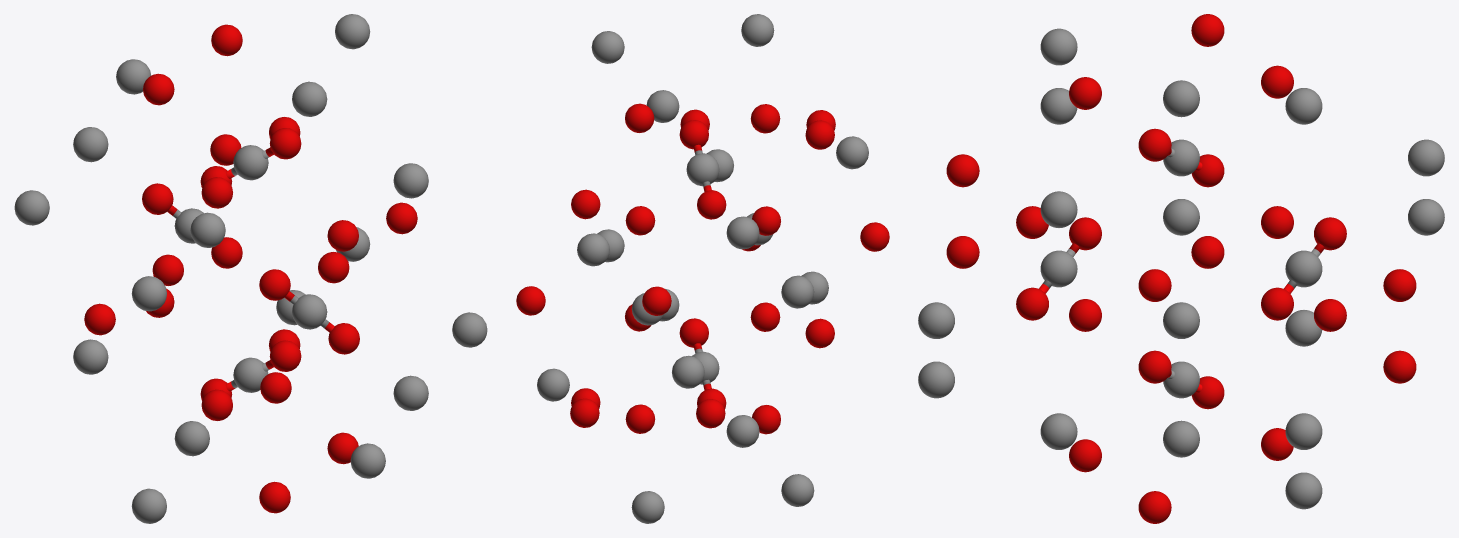
File: 3D_CarbonDioxide.fbx
3 views of the same model, side by side, from view 1: azimuth 30°, elevation 25°; view 2: azimuth 150°, elevation 25°; view 3: azimuth 270°, elevation 25° (orthographic). The views are drawn at different scales.
Visible parts, largest first — view 1: Shape_IndexedFaceSet; view 2: Shape_IndexedFaceSet; view 3: Shape_IndexedFaceSet.
Part boxes in pixels (x1,y1,x2,y2): Shape_IndexedFaceSet: (14, 14, 487, 523); Shape_IndexedFaceSet: (516, 14, 889, 523); Shape_IndexedFaceSet: (918, 14, 1444, 523).
Bounding box in the file's own units: 6480 × 12097 × 12110.
